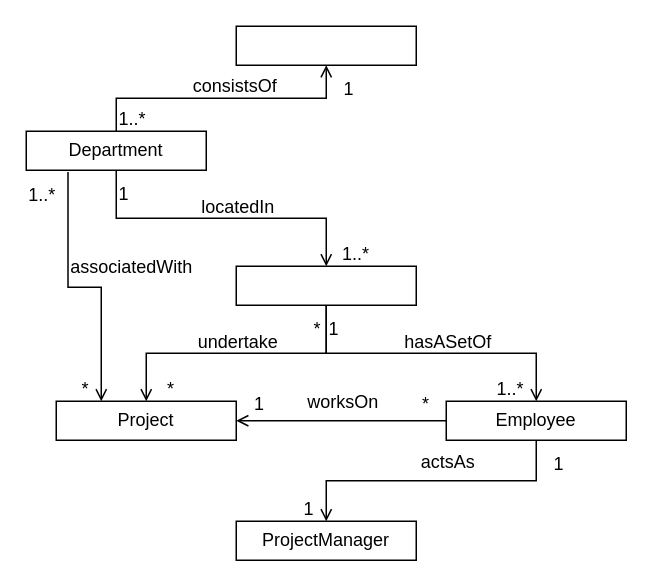
This 654x587 diagram has some shape labels left out. Here are the shapes that lost their labels. From the top down, the box of each, then its label:
(235, 25, 416, 65): Company
(235, 265, 416, 305): Office
